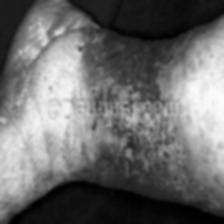Non-Cancerous Skin Condition: (34, 113, 224, 206)
